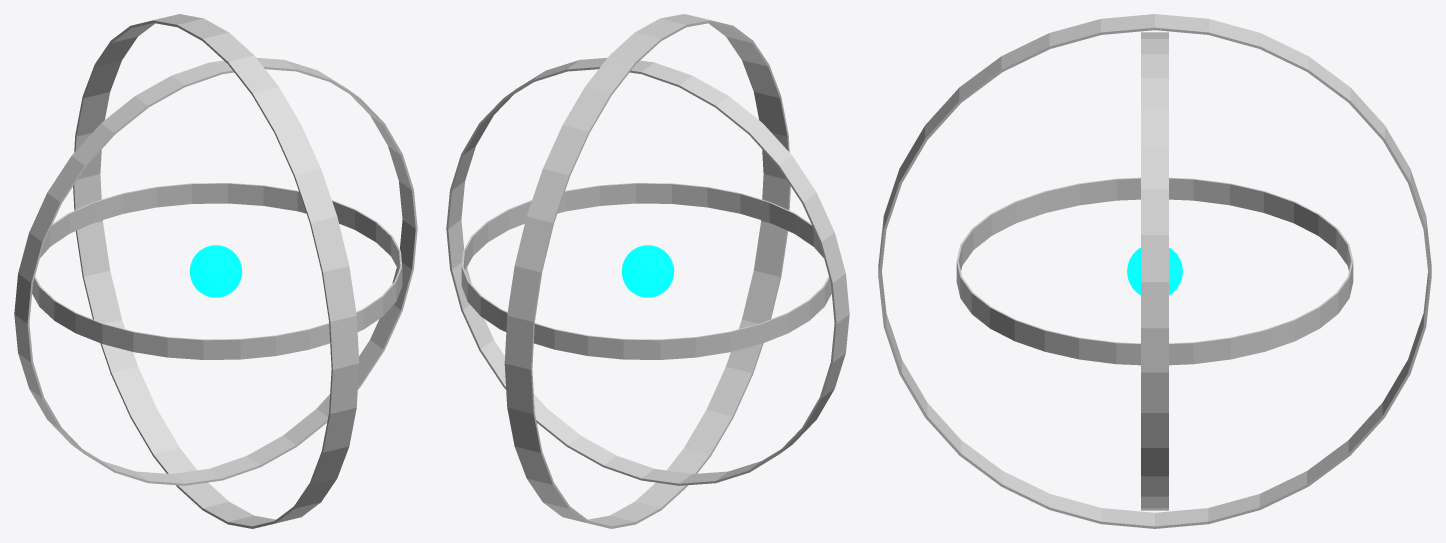
The model's file is lantern.fbx.
3 renders of one model, left to right at view 1: azimuth 30°, elevation 25°; view 2: azimuth 150°, elevation 25°; view 3: azimuth 270°, elevation 25°, orthographic. The views are drawn at different scales.
Parts seen in each view (by area): view 1: Circle.001, Circle.002, Circle, Sphere; view 2: Circle.001, Circle.002, Circle, Sphere; view 3: Circle.001, Circle, Circle.002, Sphere.
Part boxes in pixels (x1=…): Circle.001: x1=73, y1=14, x2=359, y2=528; Circle.002: x1=14, y1=57, x2=417, y2=485; Circle: x1=32, y1=183, x2=402, y2=359; Sphere: x1=189, y1=245, x2=242, y2=297; Circle.001: x1=504, y1=14, x2=790, y2=528; Circle.002: x1=446, y1=57, x2=849, y2=485; Circle: x1=461, y1=183, x2=831, y2=359; Sphere: x1=621, y1=245, x2=674, y2=297; Circle.001: x1=878, y1=14, x2=1431, y2=528; Circle: x1=956, y1=177, x2=1353, y2=365; Circle.002: x1=1141, y1=32, x2=1168, y2=510; Sphere: x1=1127, y1=247, x2=1182, y2=295.
Bounding box in the file's own units: 202 × 233 × 233.
